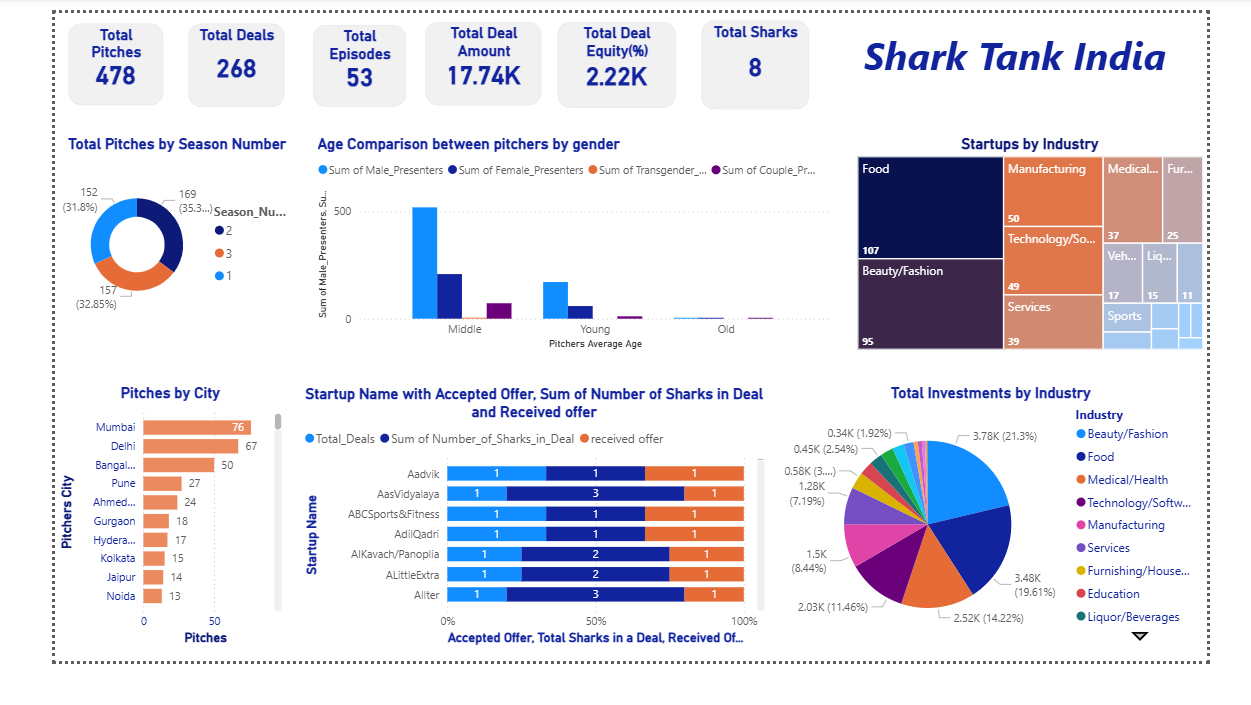

Layout of this report page (visuals, bound fields, positions):
{"tool":"powerbi","page":{"name":"Page 1","canvas":[1280,720],"ordinal":0},"visuals":[{"type":"card","title":"Total Pitches","fields":{"Values":["sharktank.Pitch_Number"]},"box":[15,11.8,105.1,90.6],"z":0,"group":"g1"},{"type":"group","id":"g1","title":"Group 1","box":[15,8.3,823.3,98.3],"z":0},{"type":"card","title":"Total Episodes","fields":{"Values":["sharktank.Episode_Number"]},"box":[287.3,13.8,103.5,90.6],"z":1000,"group":"g1"},{"type":"donutChart","title":"Total Pitches by Season Number","fields":{"Category":["sharktank.Season_Number"],"Y":["sharktank.Pitch_Number"]},"box":[0,135,271.7,225],"z":1000},{"type":"card","title":"Total Deal Amount","fields":{"Values":["sharktank.Total_Deal_Amount(in_lakhs)"]},"box":[411.5,9.8,129,92.6],"z":2000,"group":"g1"},{"type":"barChart","title":"Pitches by City","fields":{"Y":["sharktank.Pitch_Number"],"Category":["sharktank.Pitchers_City"]},"box":[0,411.7,256.7,295],"z":2000},{"type":"card","title":"Total Deal Equity(%)","fields":{"Values":["sharktank.Total_Deal_Equity(%)"]},"box":[558.3,10.5,131.4,95.3],"z":3000,"group":"g1"},{"type":"treemap","title":"Startups by Industry","fields":{"Values":["sharktank.Startup_Name"],"Group":["sharktank.Industry"]},"box":[886.7,135,393.3,243.3],"z":3000},{"type":"card","title":"Total Deals","fields":{"Values":["sharktank.Total_Deals"]},"box":[148.8,11.8,106.7,92.6],"z":4000,"group":"g1"},{"type":"clusteredColumnChart","title":"Age Comparison between pitchers by gender","fields":{"Category":["sharktank.Pitchers_Average_Age"],"Y":["sharktank.Male_Presenters","sharktank.Female_Presenters","sharktank.Transgender_Presenters","sharktank.Couple_Presenters"]},"box":[286.7,135,580,243.3],"z":4000},{"type":"card","title":"Total Sharks","fields":{"Values":["Names.Name"]},"box":[718.9,8.3,119.5,98.3],"z":5000,"group":"g1"},{"type":"hundredPercentStackedBarChart","title":"Startup Name with Accepted Offer, Sum of Number of Sharks in Deal and Received offer ","fields":{"Category":["sharktank.Startup_Name"],"Y":["sharktank.Total_Deals","sharktank.Number_of_Sharks_in_Deal","sharktank.received offer"]},"box":[271.7,413.3,521.7,293.3],"z":5000},{"type":"pieChart","title":"Total Investments by Industry","fields":{"Category":["sharktank.Industry"],"Y":["sharktank.Total_Deal_Amount(in_lakhs)"]},"box":[800,411.7,480,293.3],"z":6000},{"type":"textbox","box":[866.7,11.7,400,78.3],"z":7000}]}

Visuals, with their boxes in screenshot pixels (x1, y1, x2, y2), scaled from the page's 1280x720 canvas onto the 1251x705 screenshot:
"Total Pitches" card: l=15, t=12, r=117, b=100
"Group 1" group: l=15, t=8, r=819, b=104
"Total Episodes" card: l=281, t=14, r=382, b=102
"Total Pitches by Season Number" donutChart: l=0, t=132, r=266, b=352
"Total Deal Amount" card: l=402, t=10, r=528, b=100
"Pitches by City" barChart: l=0, t=403, r=251, b=692
"Total Deal Equity(%)" card: l=546, t=10, r=674, b=104
"Startups by Industry" treemap: l=867, t=132, r=1250, b=370
"Total Deals" card: l=145, t=12, r=250, b=102
"Age Comparison between pitchers by gender" clusteredColumnChart: l=280, t=132, r=847, b=370
"Total Sharks" card: l=703, t=8, r=819, b=104
"Startup Name with Accepted Offer, Sum of Number of Sharks in Deal and Received offer " hundredPercentStackedBarChart: l=266, t=405, r=775, b=692
"Total Investments by Industry" pieChart: l=782, t=403, r=1250, b=690
textbox: l=847, t=11, r=1238, b=88
